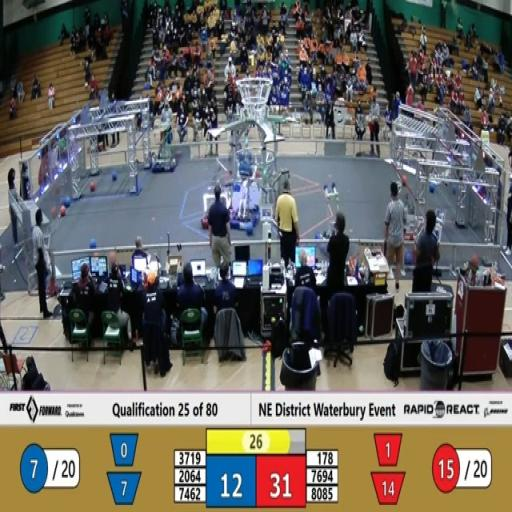robot: (309, 176, 353, 262), (142, 120, 181, 182), (196, 167, 234, 229), (394, 180, 428, 244), (228, 178, 258, 234)
